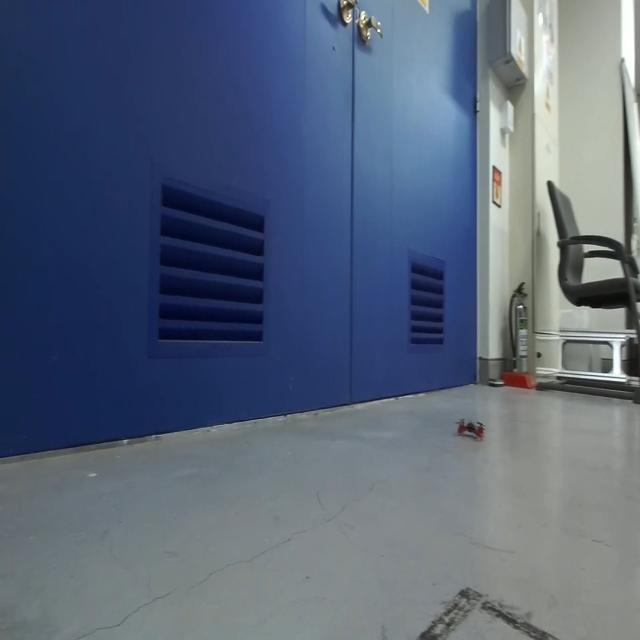crazyflie: (454, 413, 486, 442)
